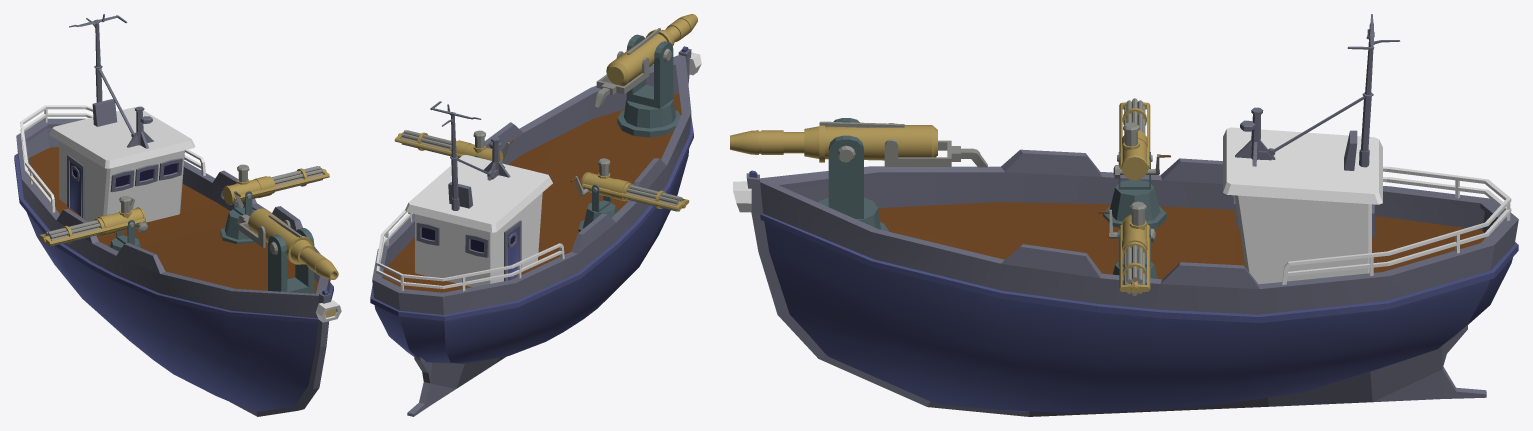
Rendered from Battleship Z1.fbx.
The picture shows the model from 3 angles, left to right: view 1: azimuth 30°, elevation 25°; view 2: azimuth 150°, elevation 25°; view 3: azimuth 270°, elevation 25°; orthographic projection. The views are drawn at different scales.
Parts seen in each view (by area): view 1: Ship Harpoon, Cylinder.001, Harpoon Platform, Cylinder.003, Cylinder.006, Gatling Platform, Cylinder.007, Cylinder.005, Gatling Platform.001; view 2: Ship Harpoon, Harpoon Platform, Cylinder.001, Cylinder.006, Cylinder.003, Gatling Platform.001, Cylinder.007, Cylinder.005; view 3: Ship Harpoon, Cylinder.001, Harpoon Platform, Cylinder.006, Cylinder.003, Gatling Platform.001, Cylinder.005.
Boxes of the visible parts, box(x1,y1,x2,y2) form: Ship Harpoon: box(14, 14, 341, 416); Cylinder.001: box(237, 208, 338, 279); Harpoon Platform: box(268, 228, 314, 293); Cylinder.003: box(222, 164, 329, 204); Cylinder.006: box(39, 195, 145, 245); Gatling Platform: box(220, 183, 255, 244); Cylinder.007: box(45, 220, 100, 246); Cylinder.005: box(272, 166, 323, 191); Gatling Platform.001: box(110, 212, 140, 251); Ship Harpoon: box(370, 46, 701, 416); Harpoon Platform: box(617, 34, 680, 137); Cylinder.001: box(595, 14, 697, 107); Cylinder.006: box(581, 158, 689, 210); Cylinder.003: box(394, 130, 502, 162); Gatling Platform.001: box(578, 184, 616, 232); Cylinder.007: box(626, 185, 682, 211); Cylinder.005: box(401, 130, 451, 155); Ship Harpoon: box(733, 14, 1518, 416); Cylinder.001: box(730, 121, 987, 167); Harpoon Platform: box(818, 118, 888, 231); Cylinder.006: box(1119, 102, 1150, 180); Cylinder.003: box(1119, 201, 1150, 293); Gatling Platform.001: box(1103, 152, 1166, 228); Cylinder.005: box(1124, 245, 1145, 296).
Size of the model in its own units: 760 by 742 by 1361.
